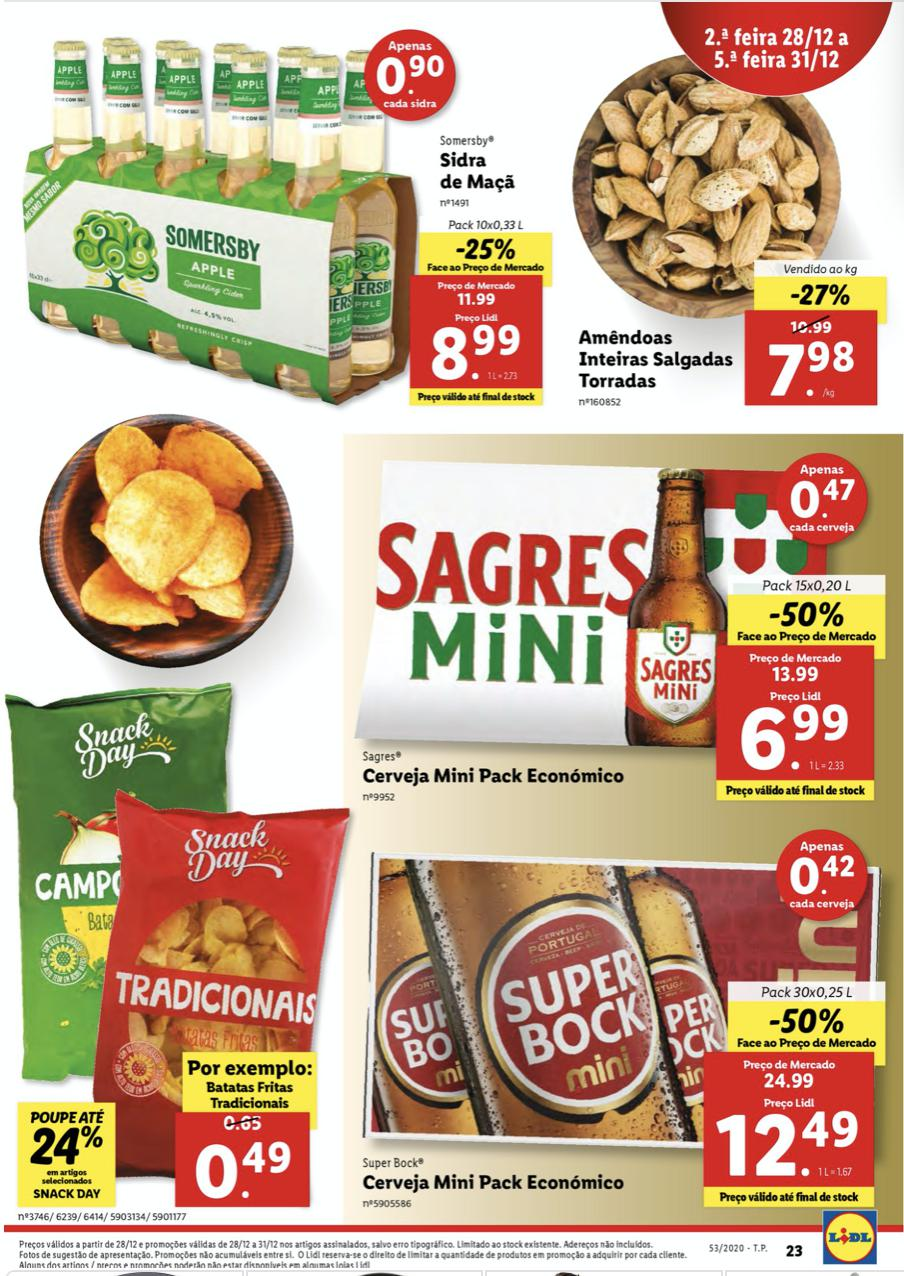name: (572, 323, 737, 394), (363, 1170, 626, 1196), (361, 766, 631, 791), (436, 147, 520, 194)
price: (712, 1102, 861, 1181), (737, 694, 855, 772), (424, 316, 531, 381), (761, 334, 863, 397), (193, 1140, 294, 1201)
product: (15, 21, 559, 412), (358, 432, 883, 829), (361, 829, 893, 1218), (4, 680, 334, 1221), (563, 50, 896, 429)
promotion: (764, 596, 847, 632), (31, 1126, 102, 1167), (763, 1004, 848, 1037), (785, 277, 851, 310), (450, 235, 520, 262)
